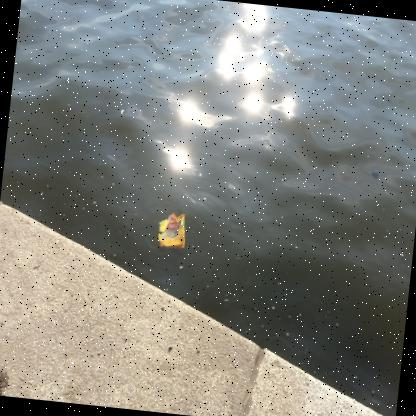Other plastic bottle: (224, 299, 229, 301)
Plastic film: (158, 212, 185, 248)
Unlabeled litter: (235, 257, 239, 259), (237, 255, 239, 256)
